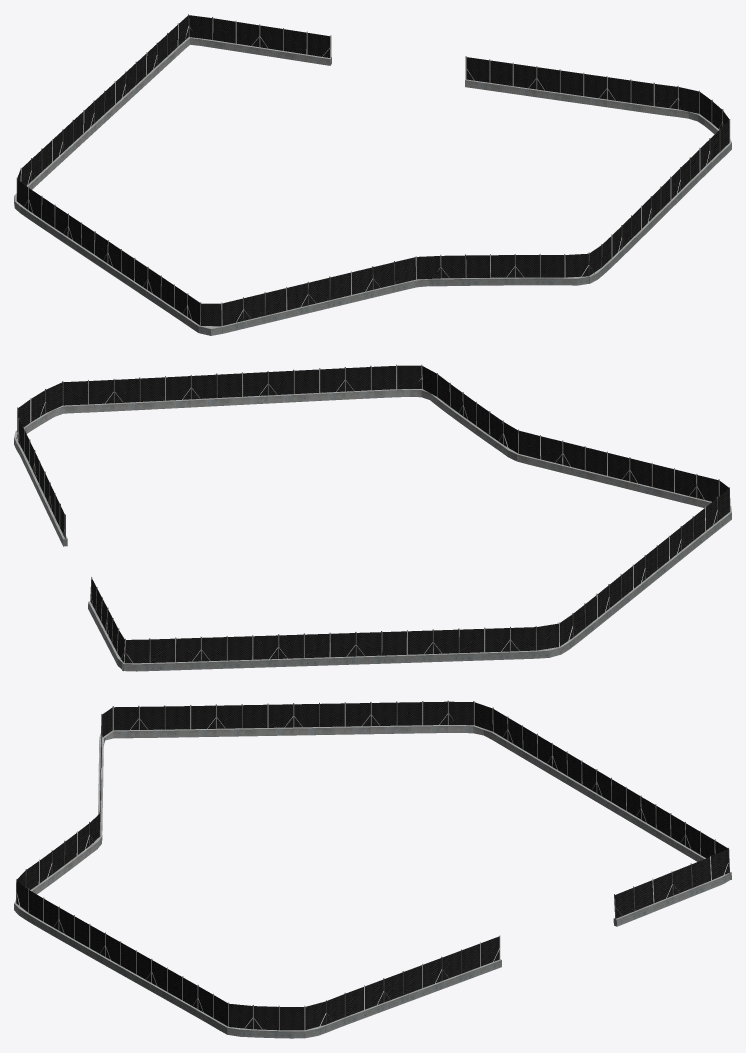
The model's file is Valla_Parking.fbx.
3 views of the same model, one above another, from view 1: azimuth 30°, elevation 25°; view 2: azimuth 150°, elevation 25°; view 3: azimuth 270°, elevation 25° (orthographic). The views are drawn at different scales.
Parts seen in each view (by area): view 1: Valla_Parking.001; view 2: Valla_Parking.001; view 3: Valla_Parking.001.
Part boxes in pixels (x1,y1,x2,y2): Valla_Parking.001: (14, 14, 731, 335); Valla_Parking.001: (14, 364, 731, 671); Valla_Parking.001: (14, 700, 731, 1038).
Bounding box in the file's own units: 18531 × 950 × 18279.
